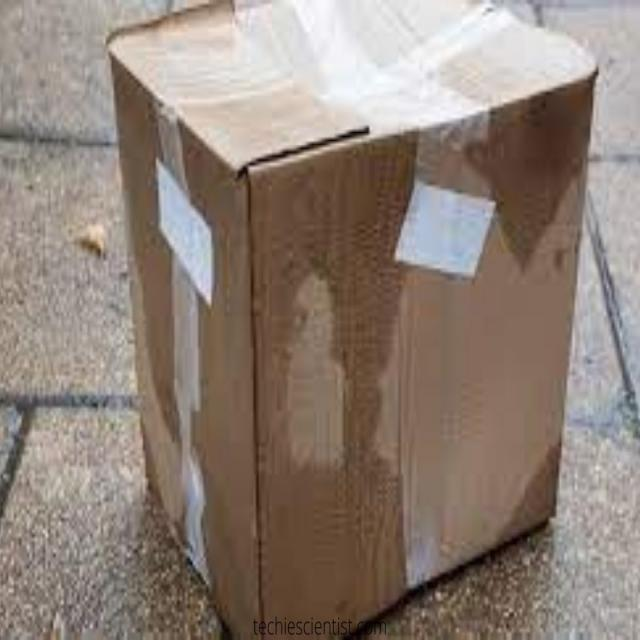wet: (228, 146, 416, 369), (240, 429, 424, 627), (442, 28, 614, 226)
